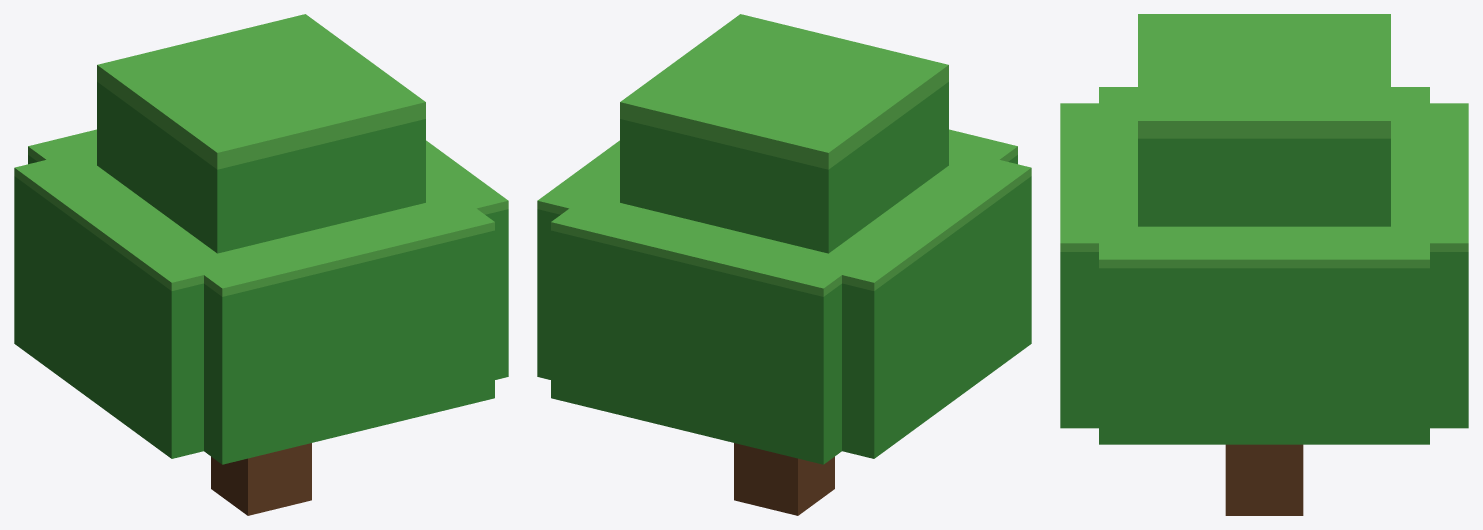
Rendered from deco_tree_round.glb.
3 views of the same model, side by side, from view 1: azimuth 30°, elevation 25°; view 2: azimuth 150°, elevation 25°; view 3: azimuth 270°, elevation 25° (orthographic). The views are drawn at different scales.
Parts seen in each view (by area): view 1: model_0; view 2: model_0; view 3: model_0.
Boxes of the visible parts, x1,y1,x2,y2 form: model_0: [14, 14, 508, 515]; model_0: [537, 14, 1031, 515]; model_0: [1060, 14, 1468, 515].
Bounding box in the file's own units: 1.68 × 1.96 × 1.68.
